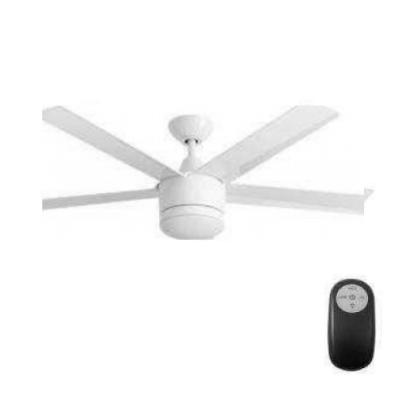ceiling-fan: (42, 106, 365, 240)
